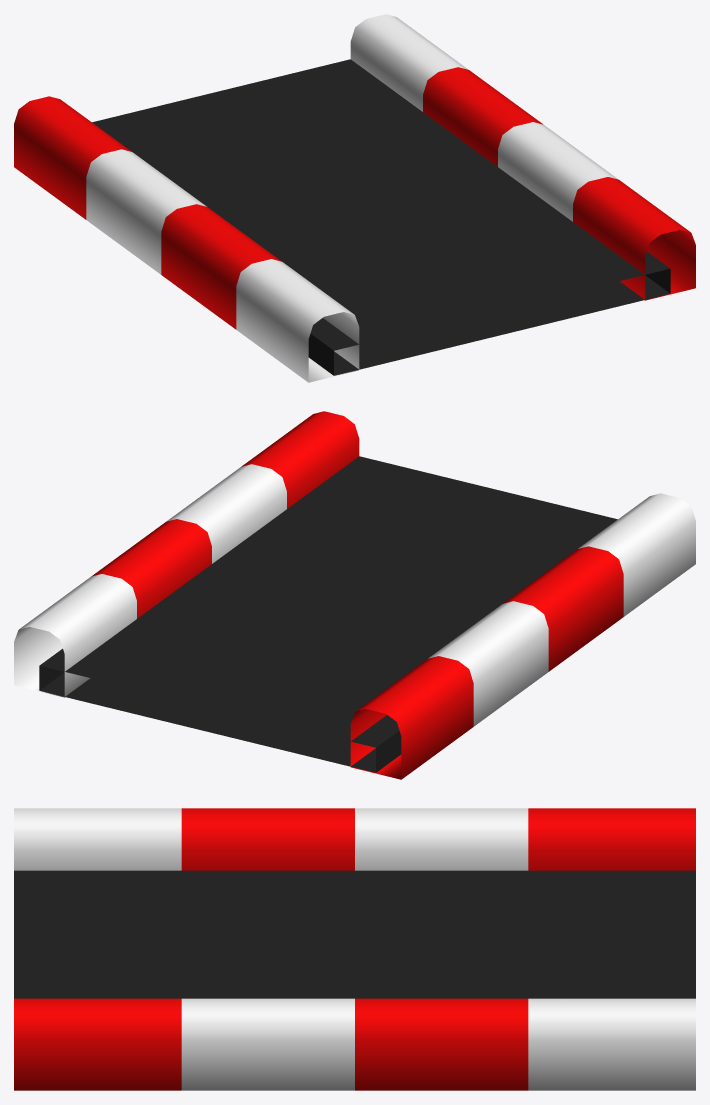
3 views of the same model, one above another, from view 1: azimuth 30°, elevation 25°; view 2: azimuth 150°, elevation 25°; view 3: azimuth 270°, elevation 25° (orthographic). The views are drawn at different scales.
Parts seen in each view (by area): view 1: StraightTrack01_Cube.001_StraightTrack01_Cube.001; view 2: StraightTrack01_Cube.001_StraightTrack01_Cube.001; view 3: StraightTrack01_Cube.001_StraightTrack01_Cube.001.
Part boxes in pixels (x1=…): StraightTrack01_Cube.001_StraightTrack01_Cube.001: x1=14, y1=14, x2=695, y2=382; StraightTrack01_Cube.001_StraightTrack01_Cube.001: x1=14, y1=411, x2=695, y2=779; StraightTrack01_Cube.001_StraightTrack01_Cube.001: x1=14, y1=808, x2=695, y2=1090.
Size of the model in its own units: 11.61 by 1.78 by 15.29.
